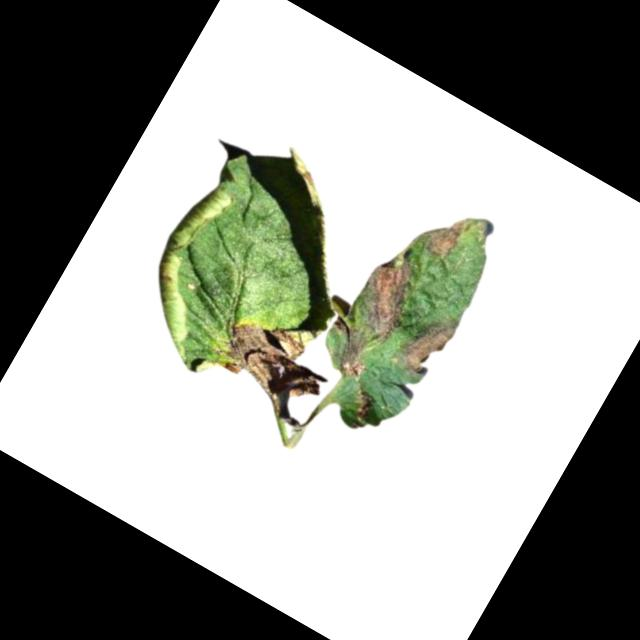Late_blight: (210, 301, 340, 413), (343, 238, 434, 345), (393, 304, 461, 383), (312, 314, 381, 384), (413, 202, 469, 261), (341, 382, 380, 422)
